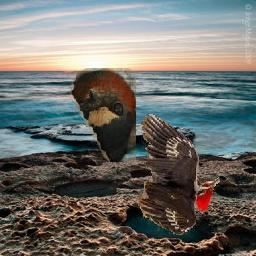Swallow: (72, 68, 137, 162)
Woodpecker: (138, 113, 220, 235)
